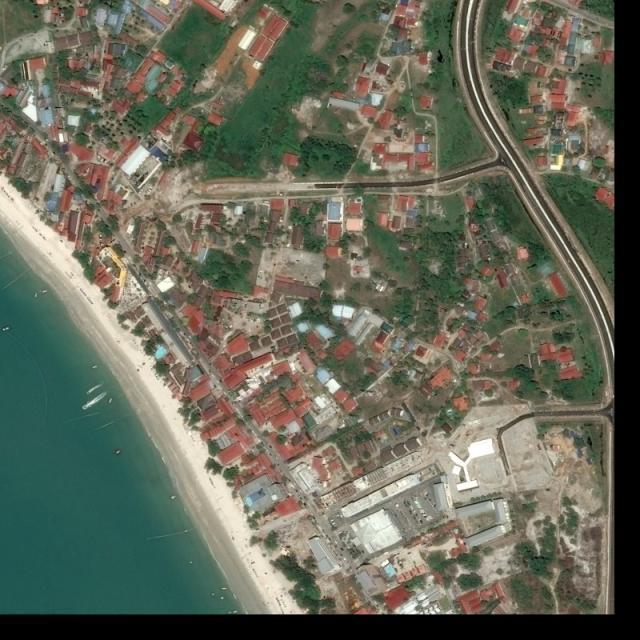ship: (82, 403, 90, 411), (2, 327, 10, 332), (170, 495, 177, 500), (115, 450, 122, 455), (232, 610, 239, 614), (86, 390, 90, 396), (109, 398, 113, 404), (92, 365, 98, 369), (42, 290, 49, 293), (222, 587, 228, 590), (211, 593, 216, 596), (34, 293, 37, 298), (221, 597, 225, 600), (228, 611, 232, 614)
